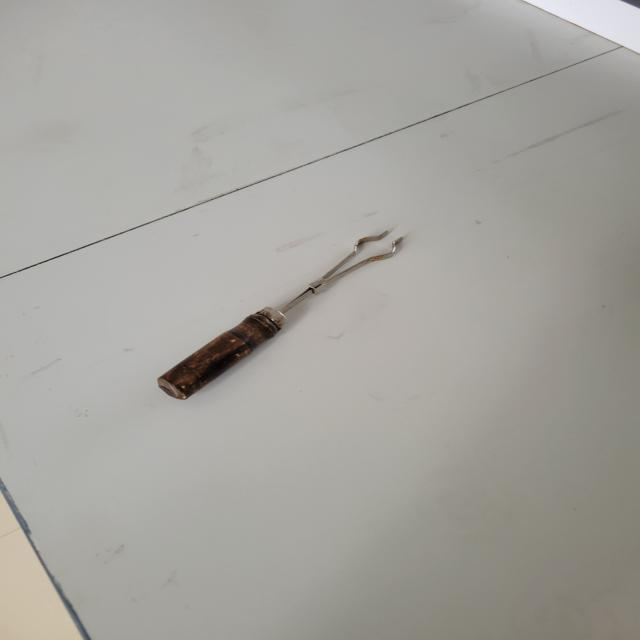TestTube_Holder: (138, 183, 434, 452)
